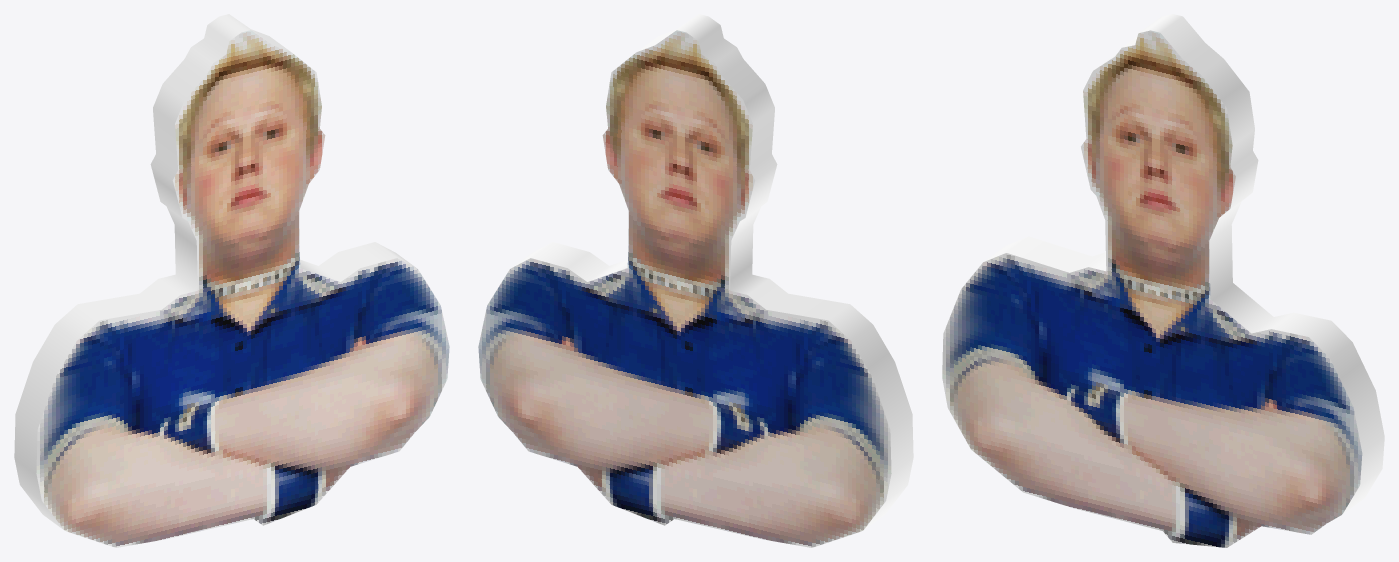
Rendered from ps2_save-icons_littlebritainthevideogame.glb.
3 renders of one model, left to right at view 1: azimuth 30°, elevation 25°; view 2: azimuth 150°, elevation 25°; view 3: azimuth 330°, elevation 25°, orthographic.
Visible parts, largest first — view 1: list.ico; view 2: list.ico; view 3: list.ico.
Part boxes in pixels (x1,y1,x2,y2): list.ico: (14,14,449,547); list.ico: (478,14,913,547); list.ico: (942,14,1384,547).
Bounding box in the file's own units: 4.29 × 4.94 × 0.397.
Materials: 1 (1 with a texture image).
